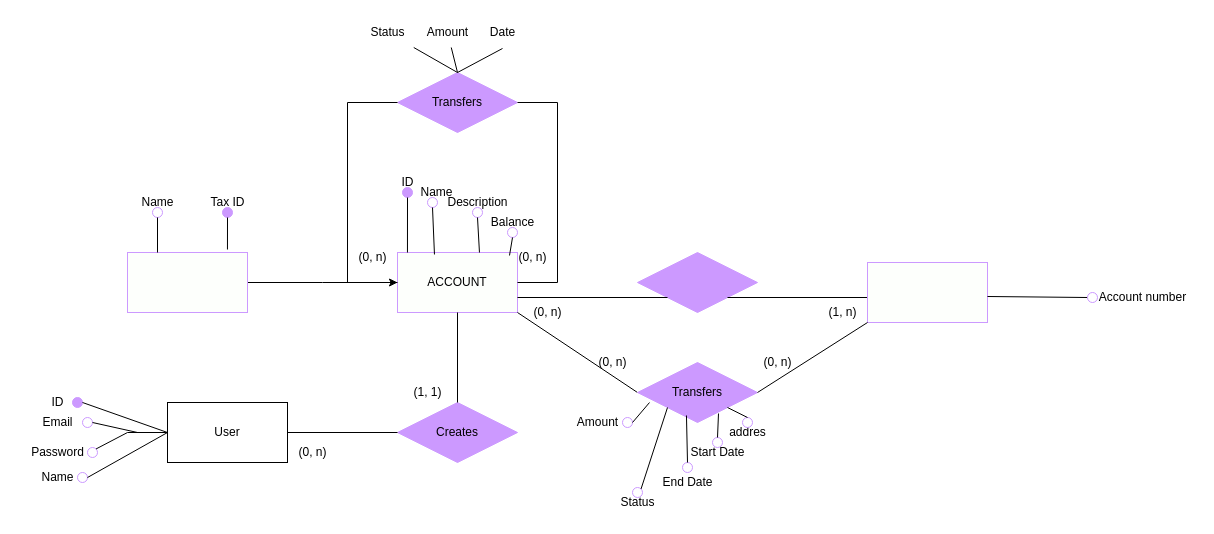
The diagram is 1214 pixels wide and 534 high, and some of its shapes have lost their labels. The shapes that lost their labels are listed below. From the top down, each one's centre as x and y in pixels, then its label:
At [187,282]: "CORPORATE ACCOUNT".
At [697,282]: "is associated".
At [927,292]: "Bank Account".
